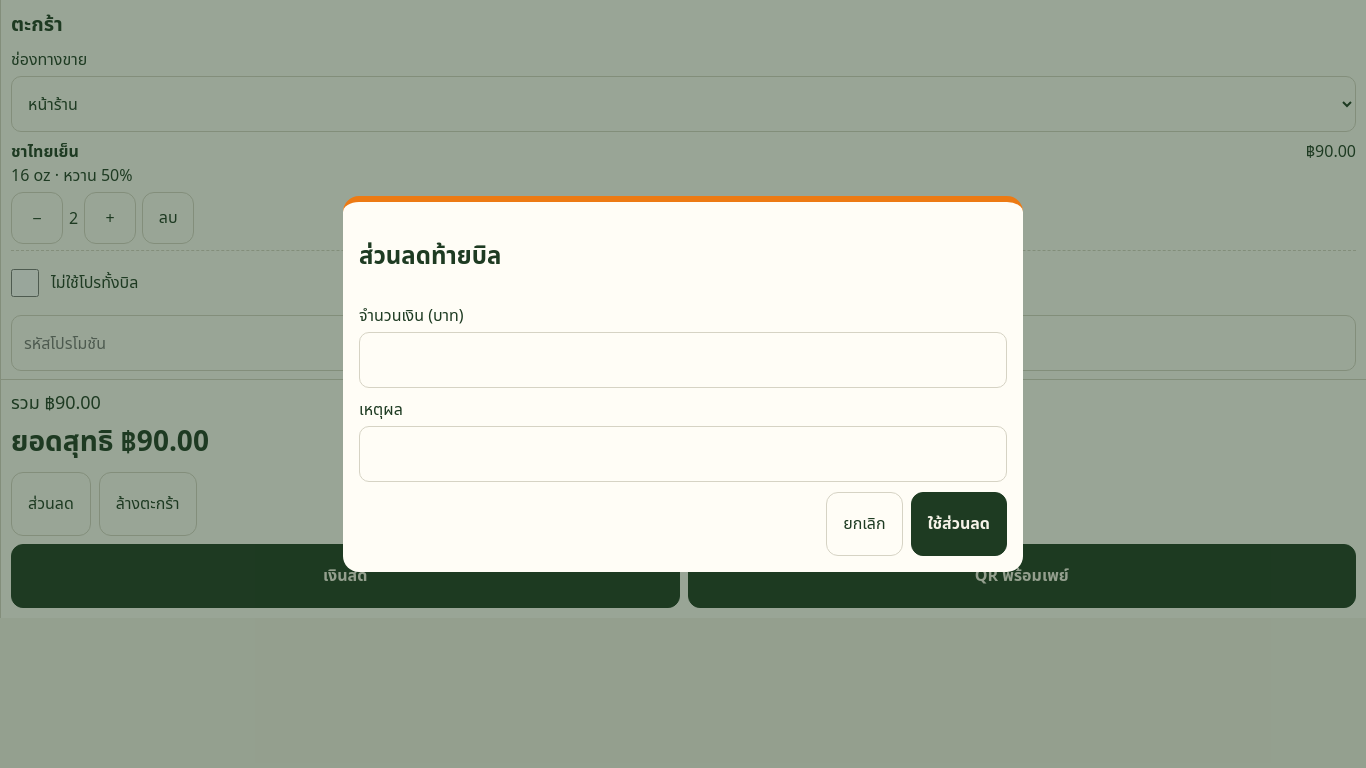
Test case: CartPanel › applies a discount with a reason and rejects one without
This screenshot has width=1366, height=768.
Expected: the text "฿90.00" is shown, [121, 421, 209, 459]
Type "10" into the field with test id "discount-amount" at (683, 360), box [359, 332, 1007, 388]
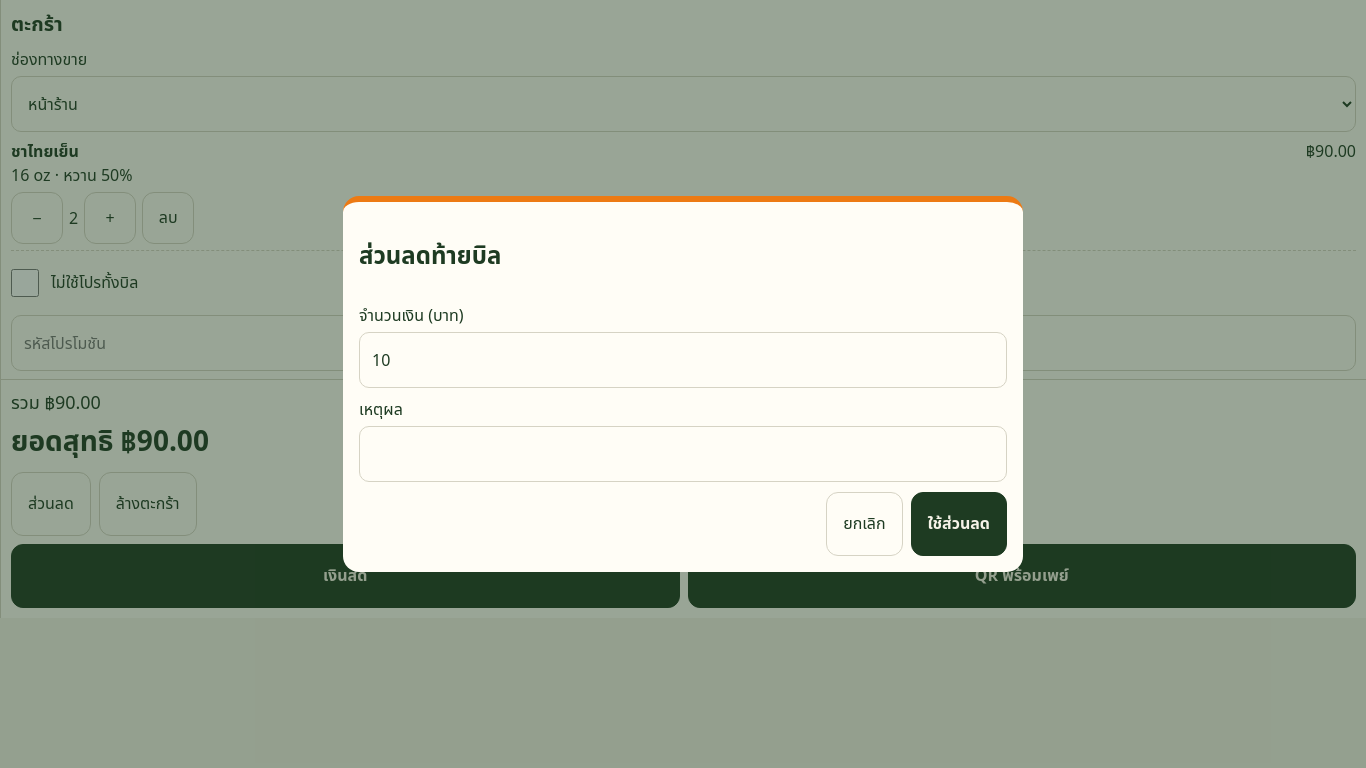
Click the button with test id "discount-apply" at (959, 524), box [911, 492, 1007, 556]
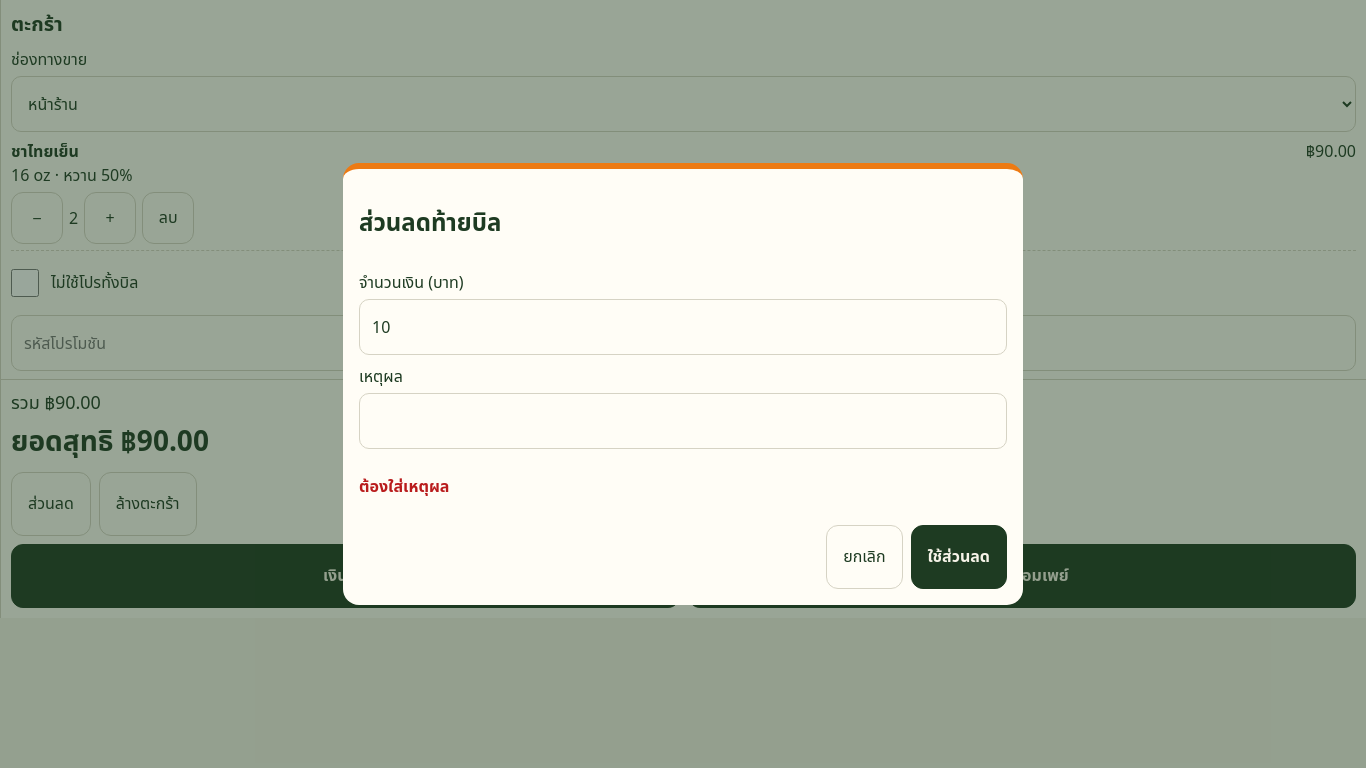
Now the message reads "ต้องใส่เหตุผล", box [359, 475, 449, 497]
Type "ลูกค้าประจำ" into the field with test id "discount-reason" at (683, 421), box [359, 393, 1007, 449]
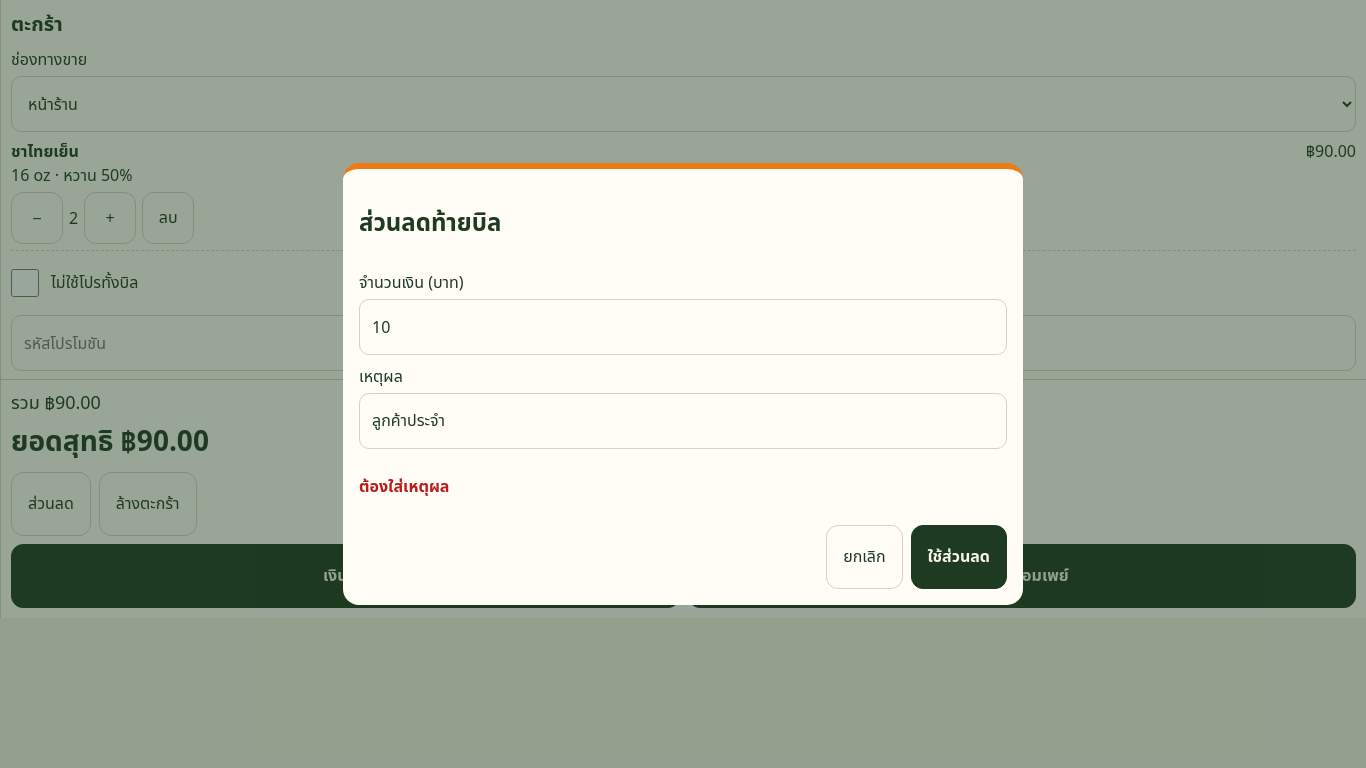
Click the button with test id "discount-apply" at (959, 557), box [911, 525, 1007, 589]
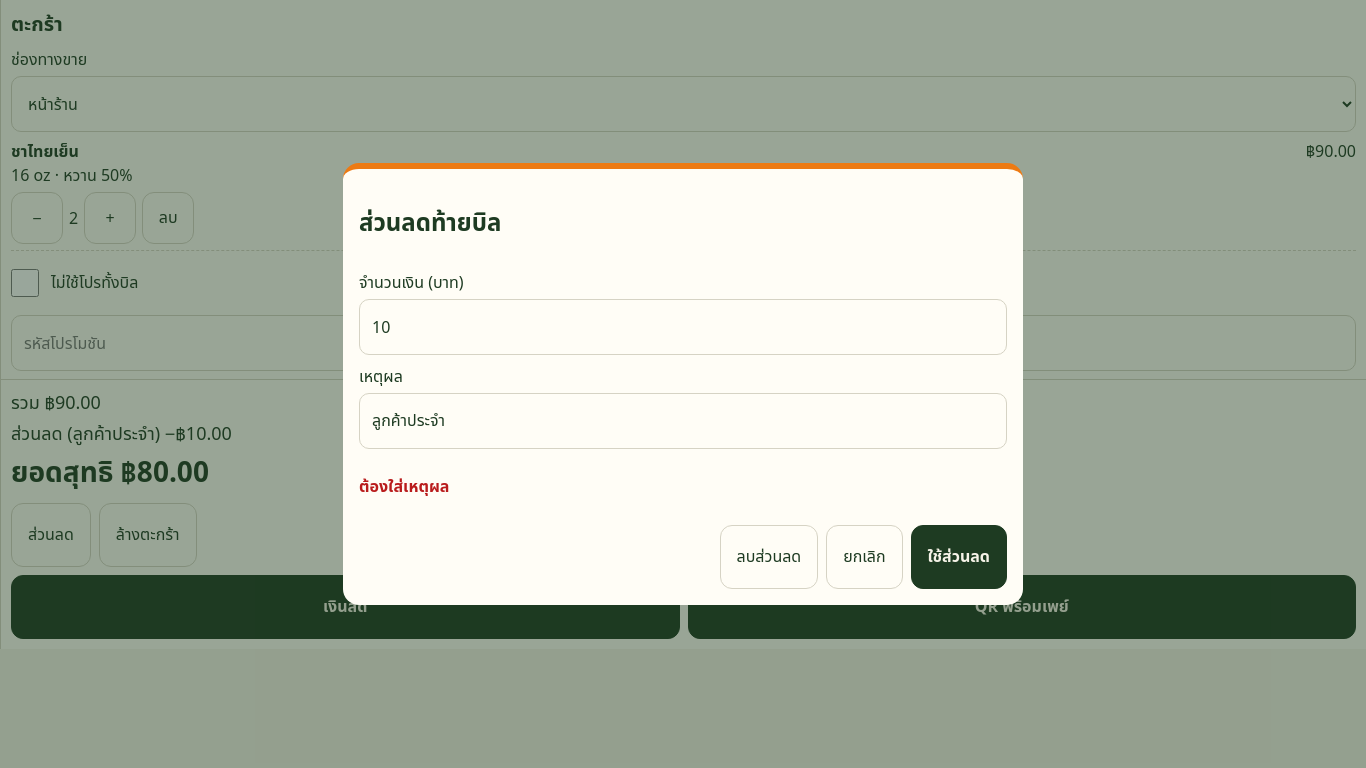
Now the text with test id "cart-discount" shows "−฿10", box [165, 421, 232, 445]
Now the text with test id "cart-total" shows "฿80", box [121, 452, 209, 490]
